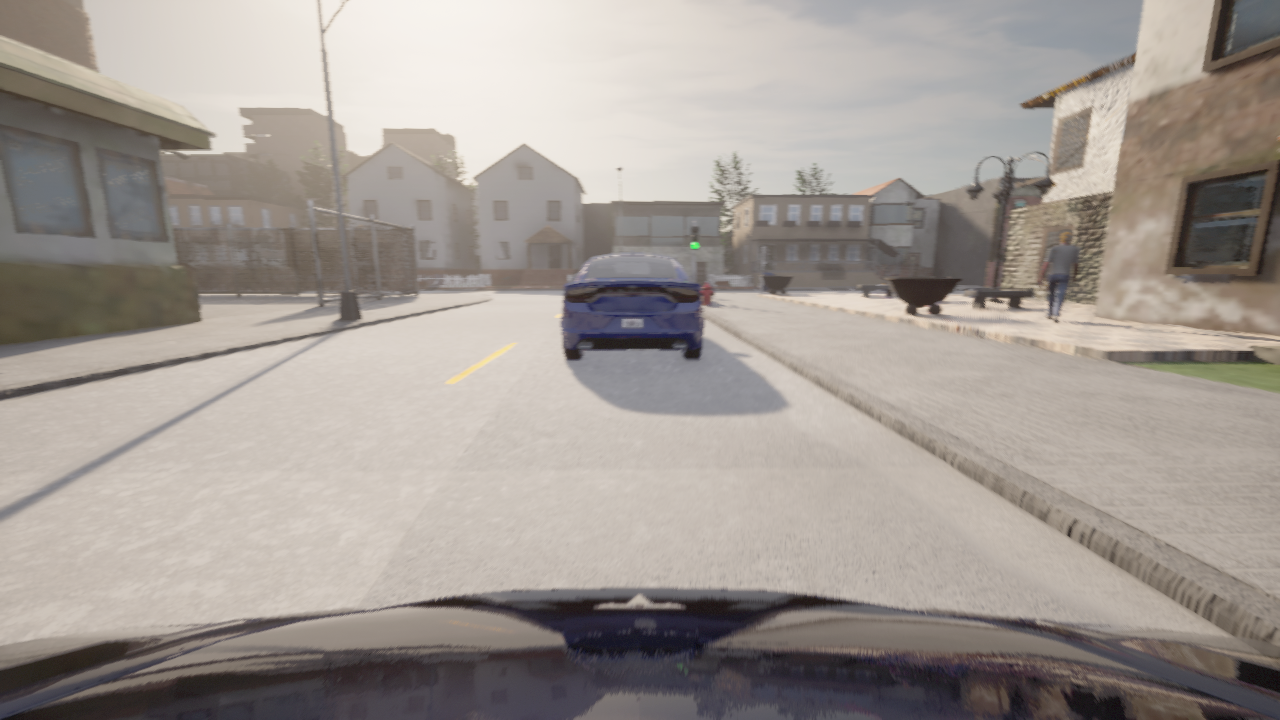cyclist: (0, 588, 1279, 719), (562, 251, 703, 359)
pedestrian: (1038, 231, 1079, 323), (913, 264, 919, 277)
